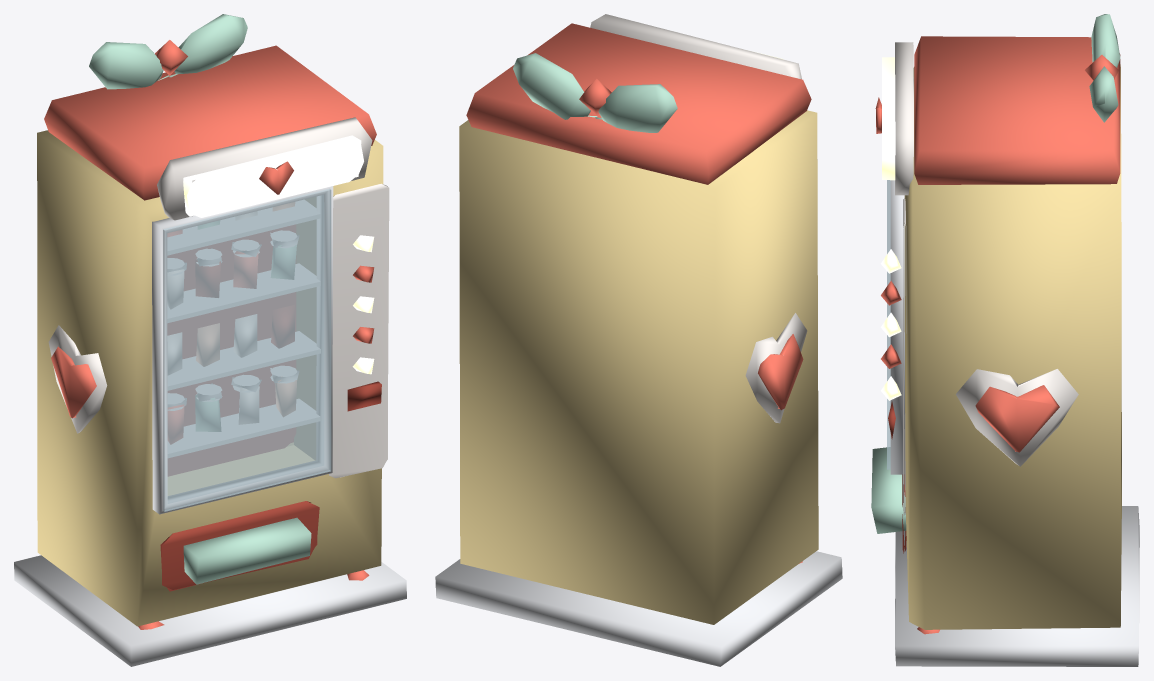
Rendered from lod_vending_pod.glb.
The picture shows the model from 3 angles, left to right: view 1: azimuth 30°, elevation 25°; view 2: azimuth 150°, elevation 25°; view 3: azimuth 270°, elevation 25°; orthographic projection. The views are drawn at different scales.
Visible parts, largest first — view 1: vending_pod; view 2: vending_pod; view 3: vending_pod.
Part boxes in pixels (<box>): vending_pod: <box>14,14,406,666</box>; vending_pod: <box>435,14,842,666</box>; vending_pod: <box>871,14,1139,666</box>.
Bounding box in the file's own units: 1.37 × 2.45 × 1.07.
